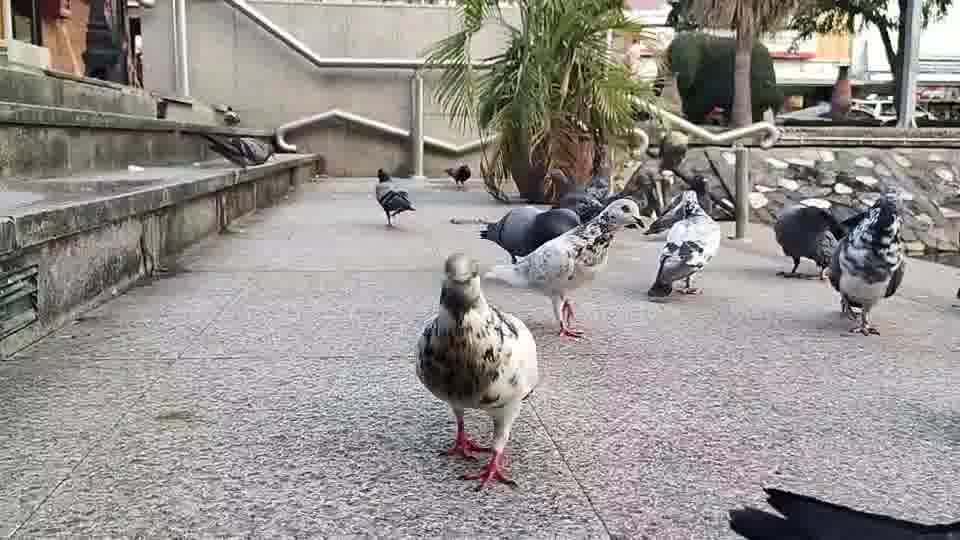Pigeon: (413, 251, 539, 492), (512, 196, 645, 339), (727, 484, 959, 539), (824, 192, 906, 336), (645, 189, 721, 299), (477, 203, 581, 264), (772, 200, 842, 280), (374, 167, 416, 226), (442, 162, 471, 189)
